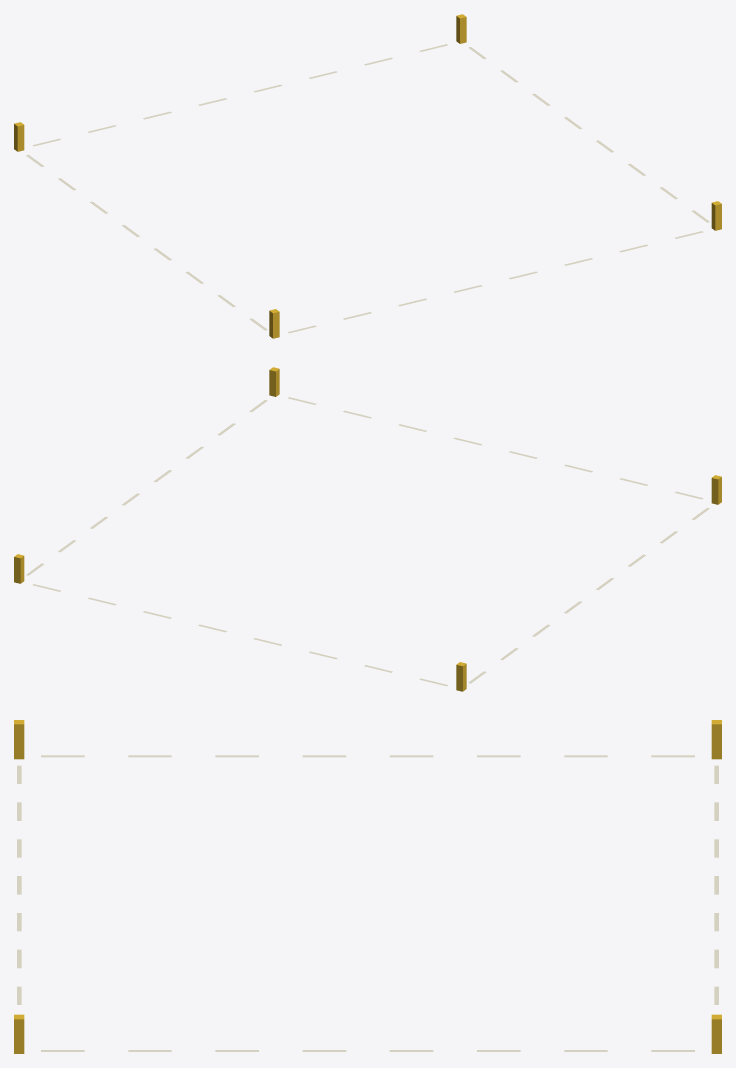
The model's file is ReservedPlotMarkers.obj.
3 views of the same model, one above another, from view 1: azimuth 30°, elevation 25°; view 2: azimuth 150°, elevation 25°; view 3: azimuth 270°, elevation 25° (orthographic). The views are drawn at different scales.
Visible parts, largest first — view 1: ReservedPlotMarkers; view 2: ReservedPlotMarkers; view 3: ReservedPlotMarkers.
Part boxes in pixels (x1,y1,x2,y2): ReservedPlotMarkers: (14,14,721,338); ReservedPlotMarkers: (14,367,721,691); ReservedPlotMarkers: (14,720,721,1053).
Bounding box in the file's own units: 8.12 × 0.44 × 8.12.
